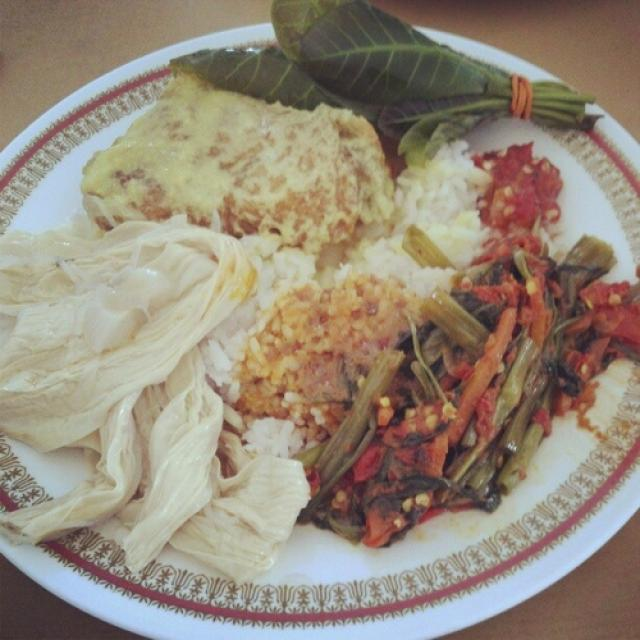米饭主食: (19, 16, 627, 604)
